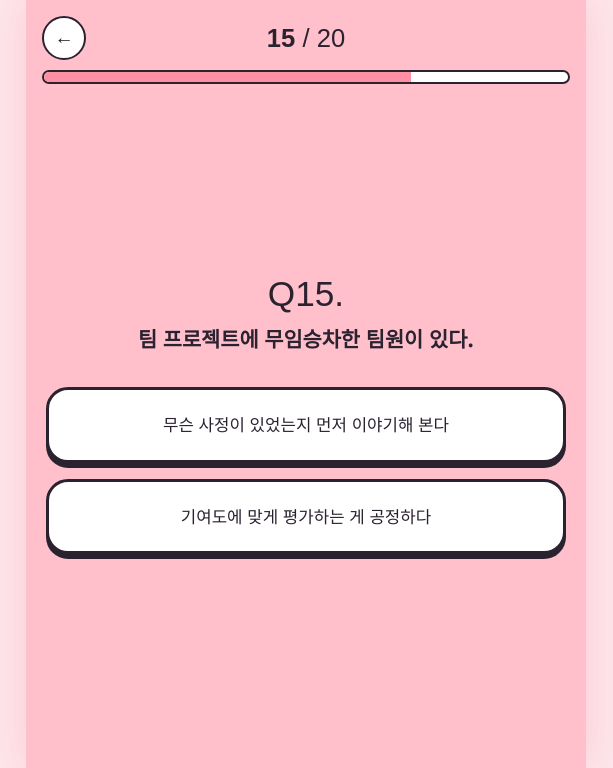
20문항을 끝까지 풀면 로딩 화면으로 넘어간다
This screenshot has width=613, height=768.
Earlier steps of the test are not shown.
Click the button "무슨 사정이 있었는지 먼저 이야기해 본다": point(306, 425) [46,387,566,463]
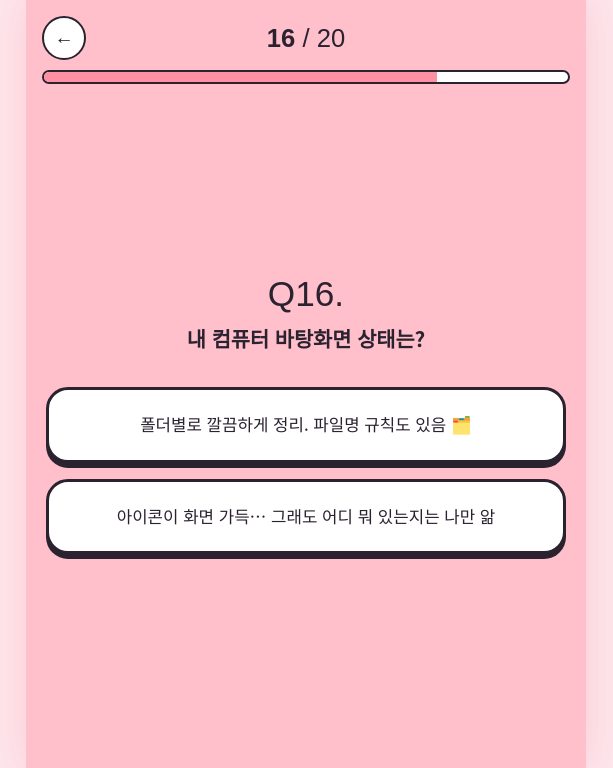
Click the button "폴더별로 깔끔하게 정리. 파일명 규칙도 있음 🗂️": point(306, 425) [46,387,566,463]
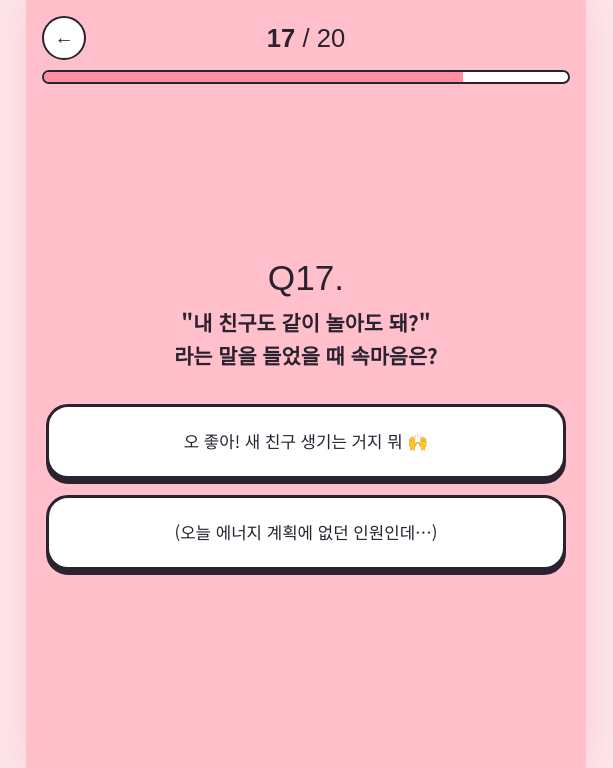
Click the button "오 좋아! 새 친구 생기는 거지 뭐 🙌": point(306, 442) [46,404,566,479]
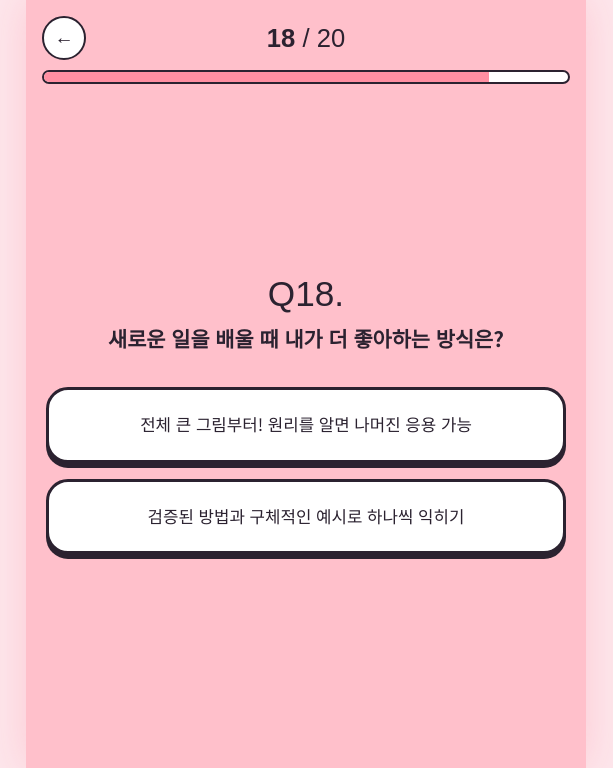
Click the button "전체 큰 그림부터! 원리를 알면 나머진 응용 가능": point(306, 425) [46,387,566,463]
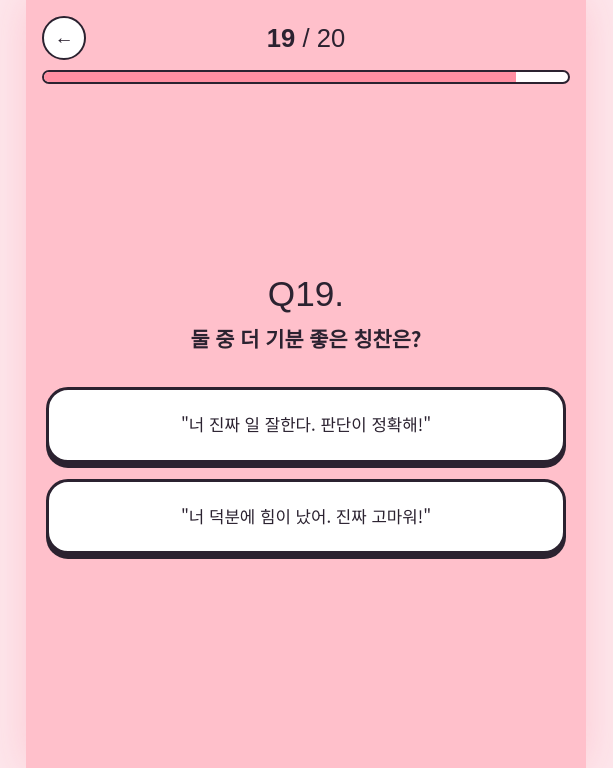
Click the button "\"너 진짜 일 잘한다. 판단이 정확해!\"": point(306, 425) [46,387,566,463]
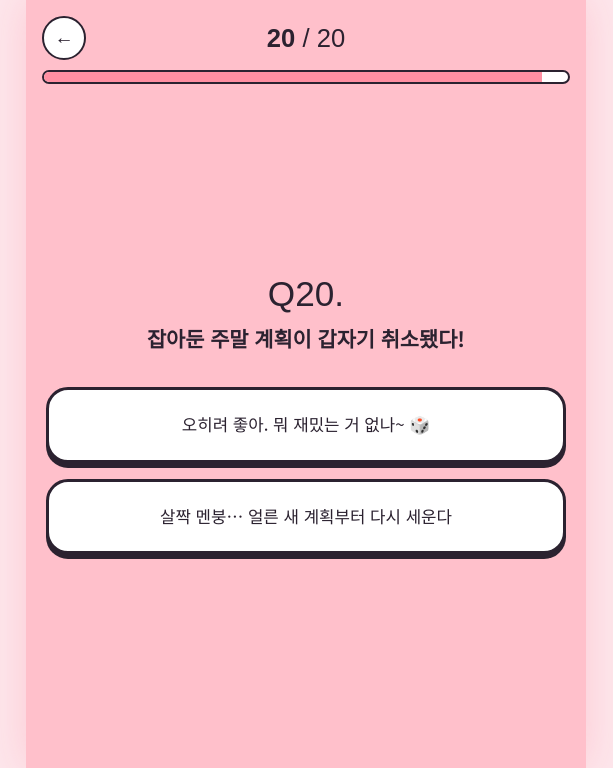
Click the button "오히려 좋아. 뭐 재밌는 거 없나~ 🎲": point(306, 425) [46,387,566,463]
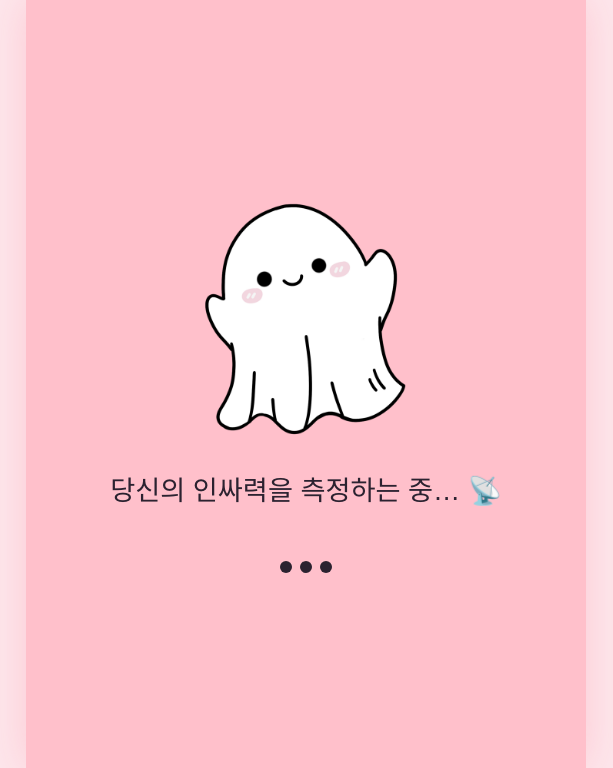
Expected: the text "당신의 인싸력을 측정하는 중… 📡" is shown, [110,475,502,506]
